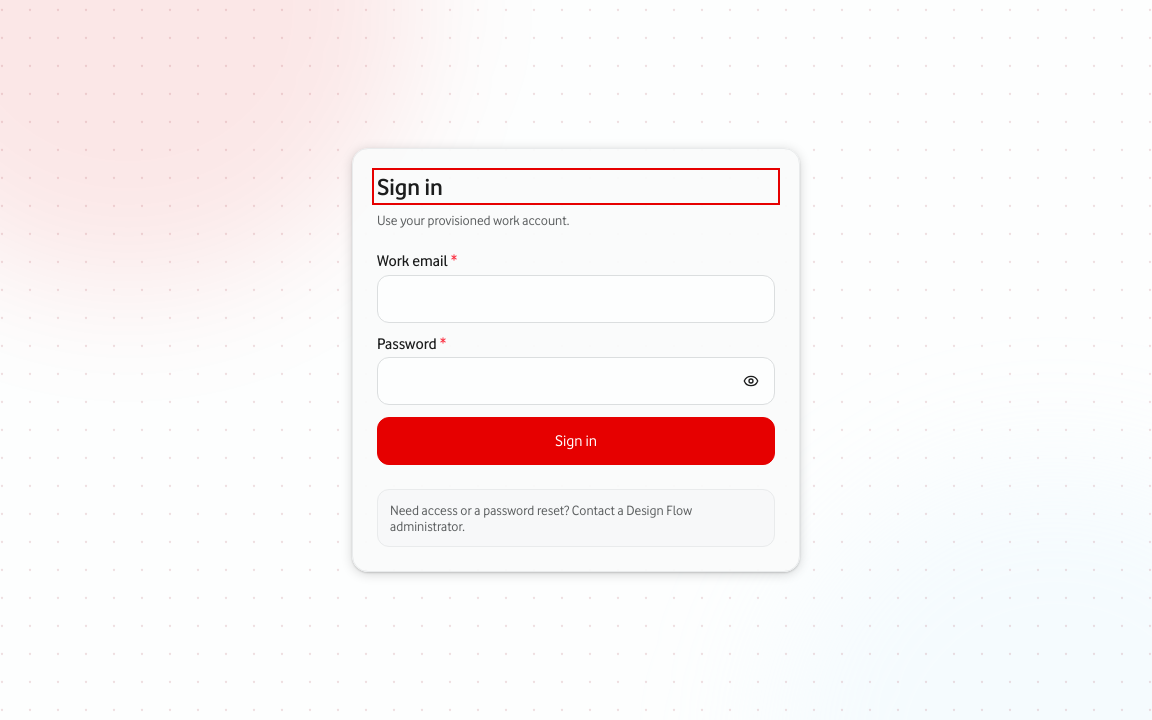
Test case: authenticated application routing › associates validation errors and focuses the first invalid sign-in field
Expected: the heading "Sign in" is shown, [377,173,443,200]
Click the button "Sign in" at (576, 441), box [377,417,775,465]
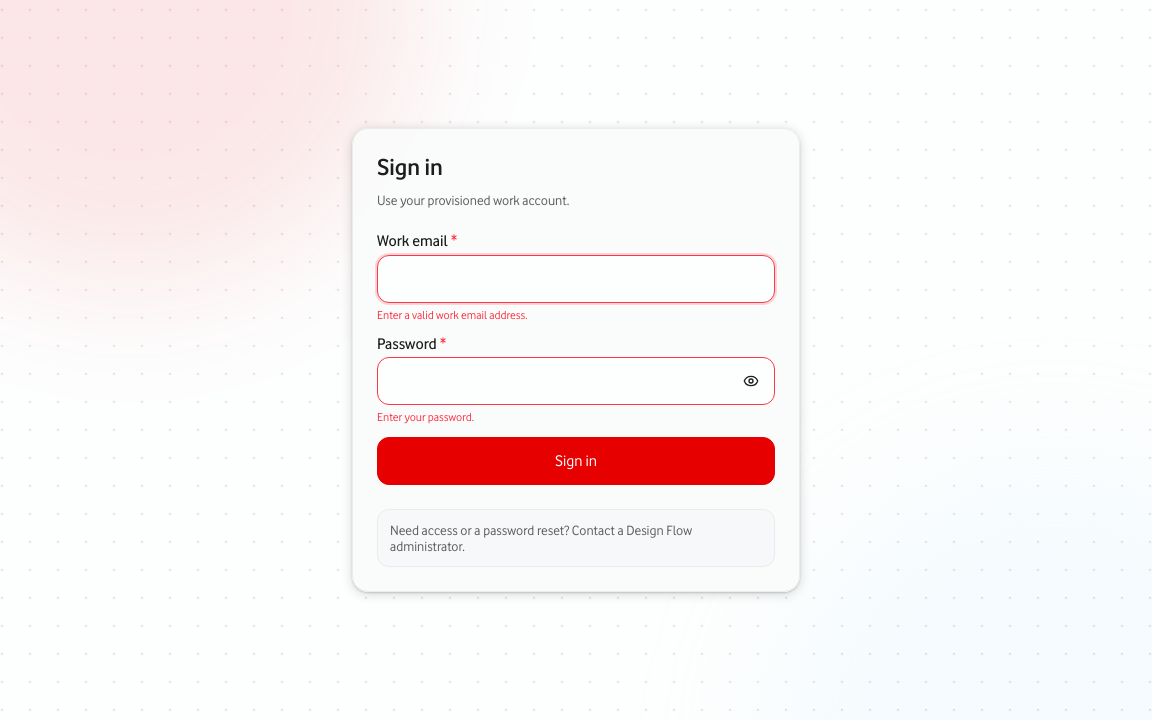
Expected: the text "Enter a valid work email address." is shown, [377,308,527,322]
Expected: the text "Enter your password." is shown, [377,410,474,424]
